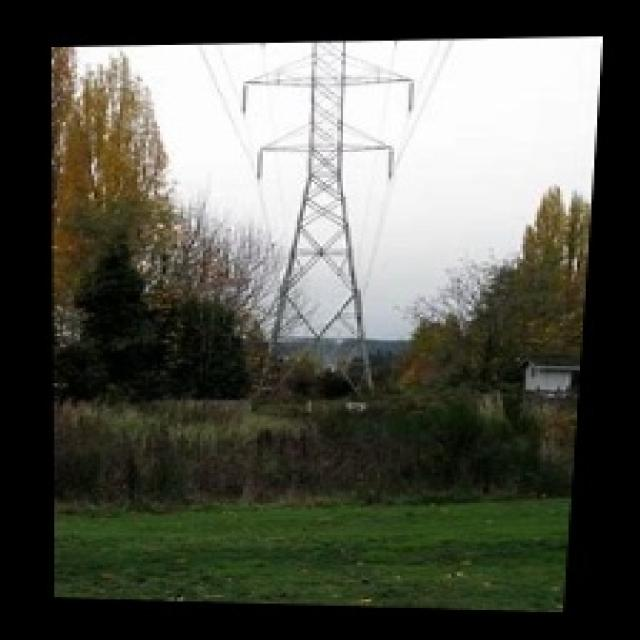utility poles: (166, 226, 311, 396), (330, 296, 451, 402)
